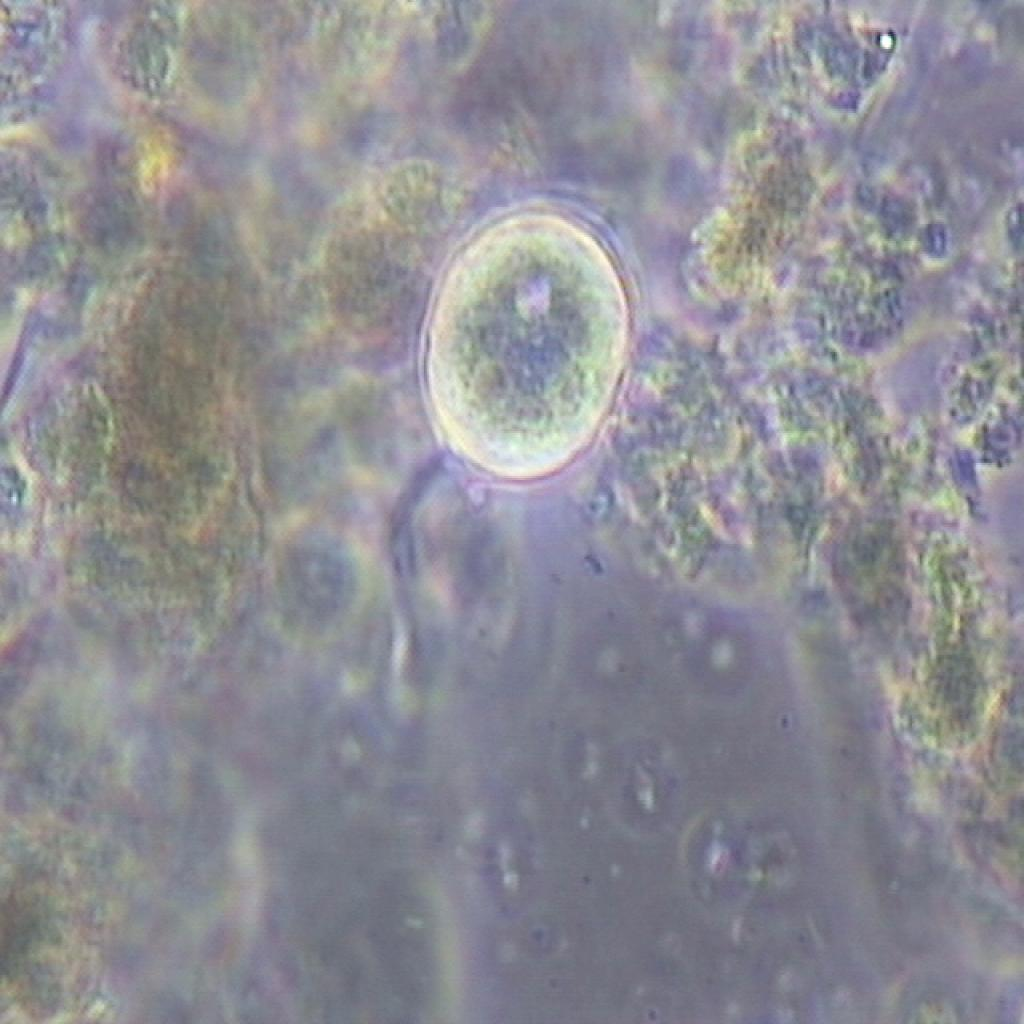Vorticella: (375, 178, 633, 641)
